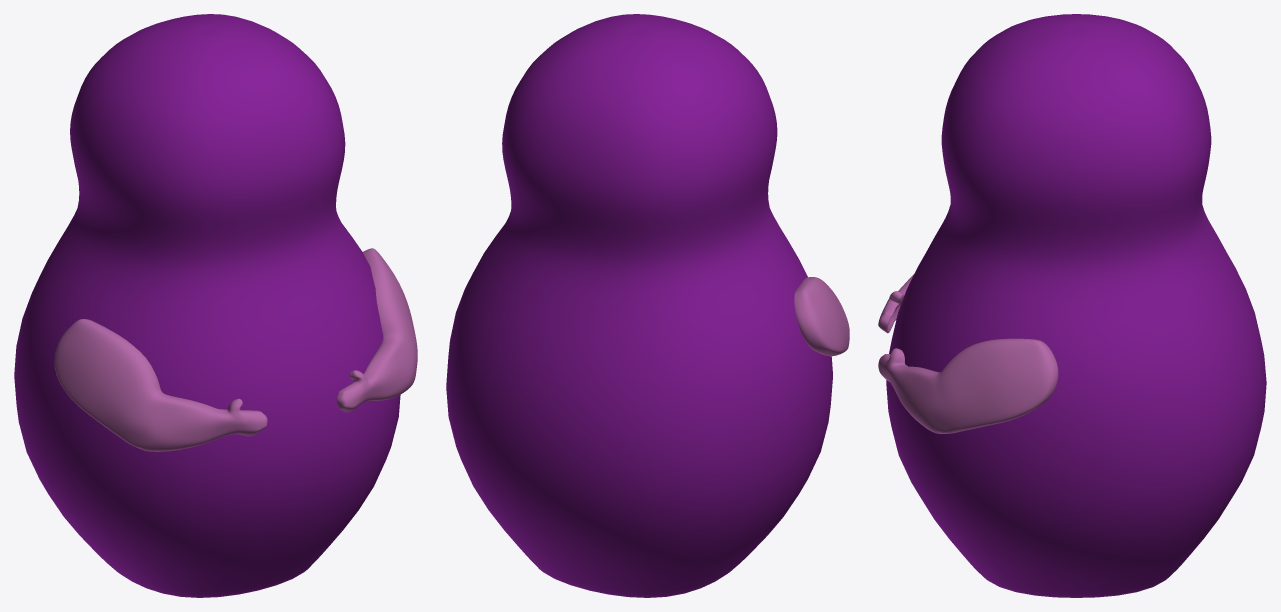
Rendered from purple-1.glb.
3 renders of one model, left to right at view 1: azimuth 30°, elevation 25°; view 2: azimuth 150°, elevation 25°; view 3: azimuth 270°, elevation 25°, orthographic.
Visible parts, largest first — view 1: Cube, Cube.001; view 2: Cube, Cube.001; view 3: Cube, Cube.001.
Boxes of the visible parts, x1,y1,x2,y2 form: Cube: [14, 14, 400, 597]; Cube.001: [54, 248, 417, 451]; Cube: [446, 14, 832, 597]; Cube.001: [794, 277, 849, 356]; Cube: [886, 14, 1266, 597]; Cube.001: [878, 274, 1058, 433].
Bounding box in the file's own units: 2.96 × 4.36 × 2.9.
